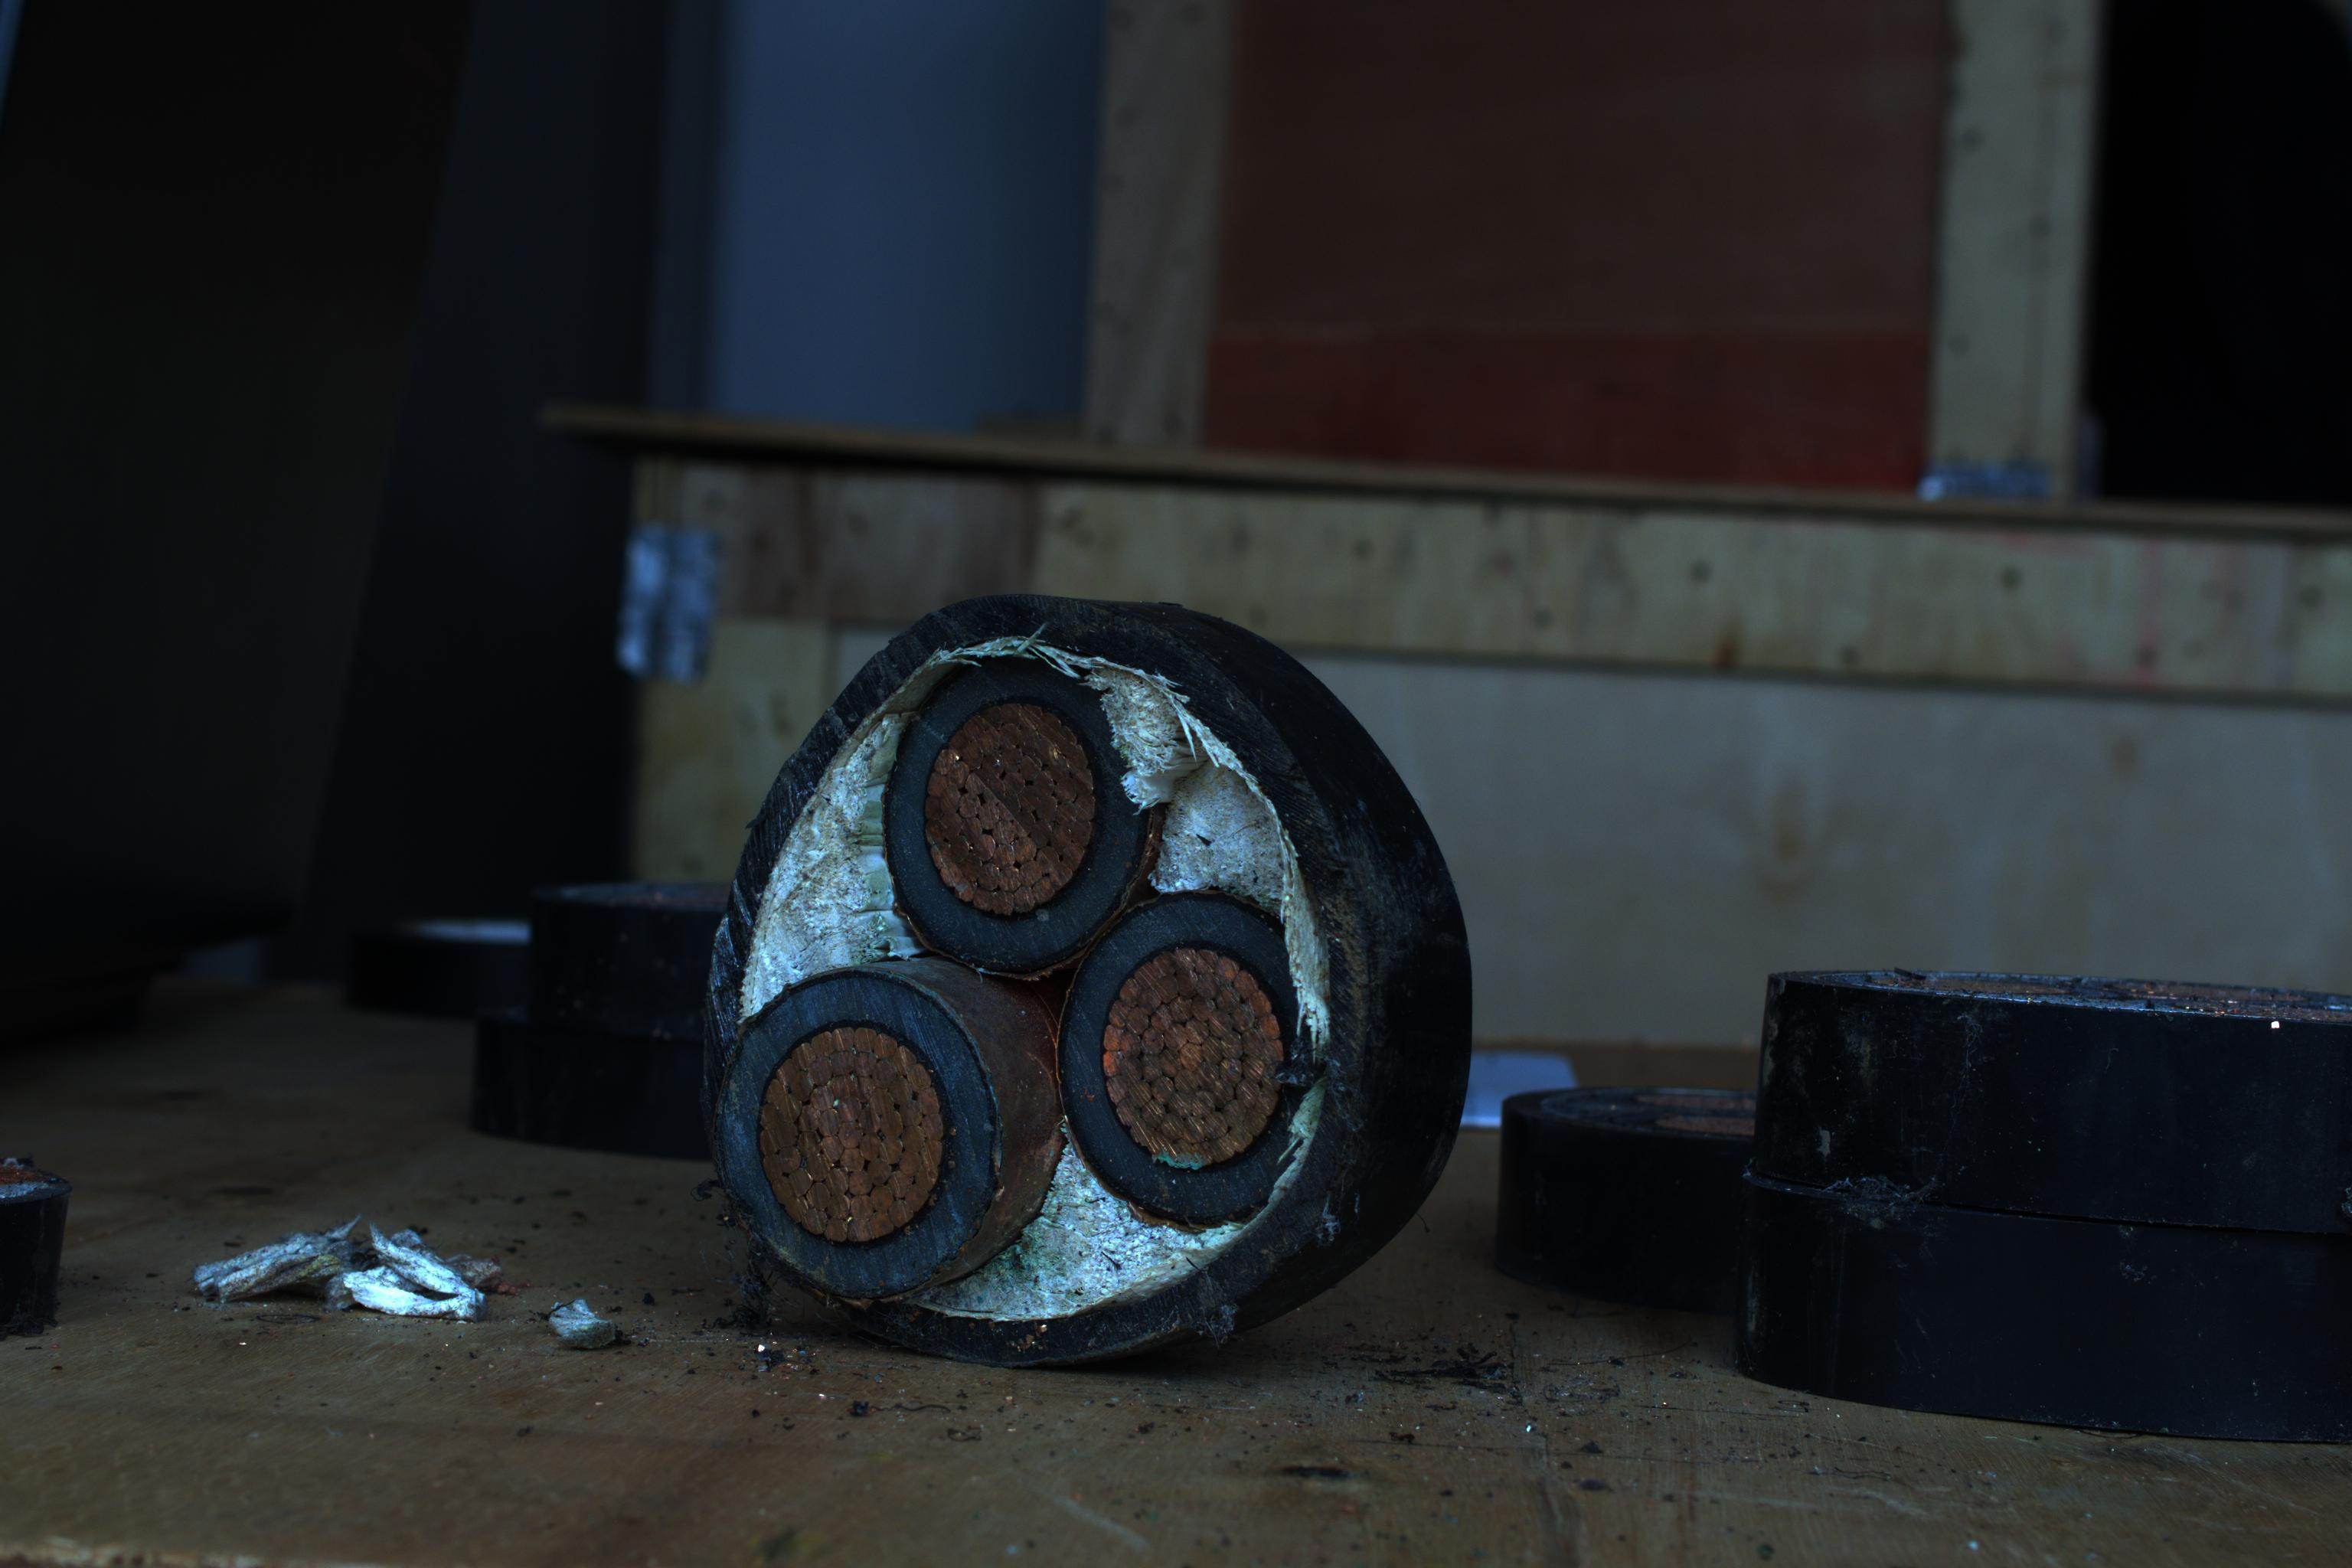ZA_YJV_8.7_10kV_3x400: (700, 605, 1367, 1368)
